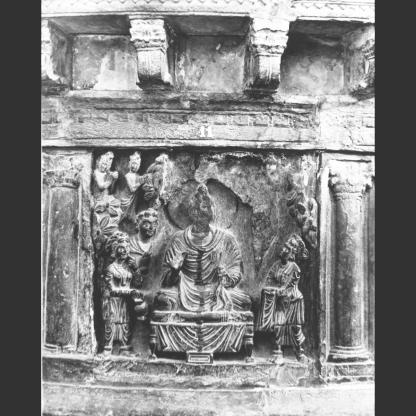buddha-sitting: (147, 176, 253, 358)
